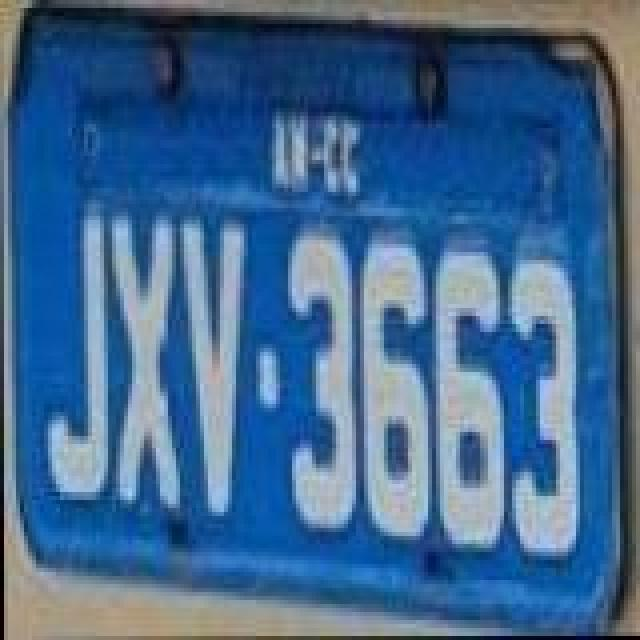3: (286, 230, 358, 534), (510, 260, 582, 564)
6: (358, 234, 430, 546), (430, 246, 502, 550)
J: (46, 212, 110, 508)
V: (176, 218, 244, 514)
X: (112, 216, 180, 520)
